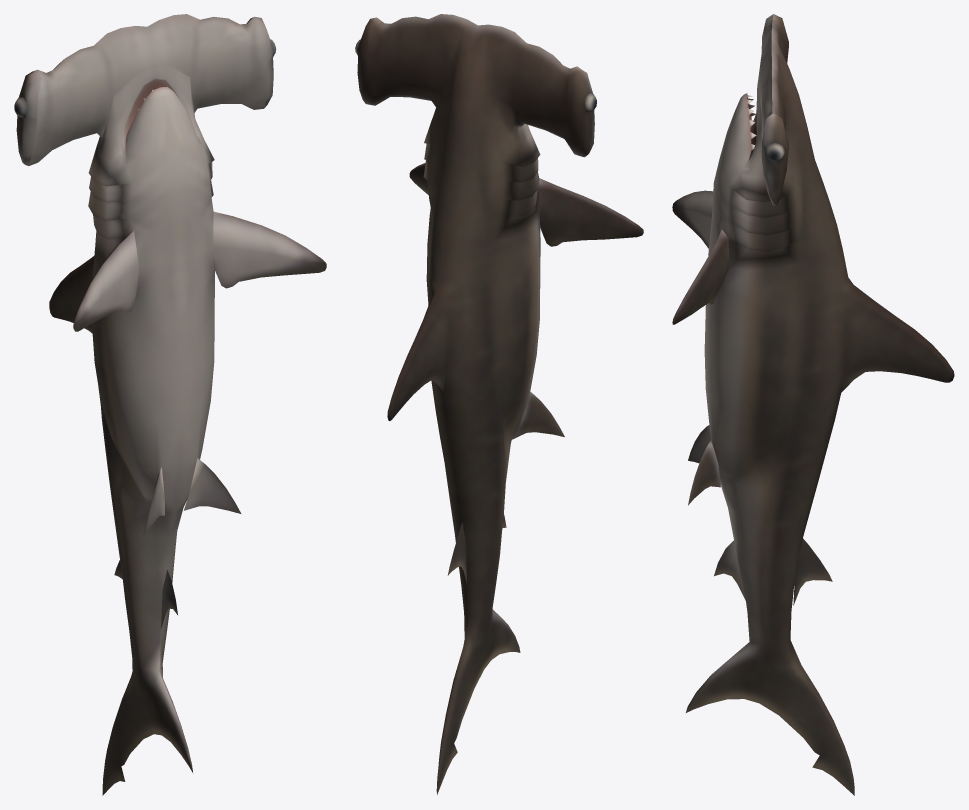
The model's file is hammerhead-shark.glb.
3 renders of one model, left to right at view 1: azimuth 30°, elevation 25°; view 2: azimuth 150°, elevation 25°; view 3: azimuth 270°, elevation 25°, orthographic. The views are drawn at different scales.
Parts seen in each view (by area): view 1: FishShumokuzame__mShumokuzame; view 2: FishShumokuzame__mShumokuzame; view 3: FishShumokuzame__mShumokuzame.
Boxes of the visible parts, x1,y1,x2,y2 form: FishShumokuzame__mShumokuzame: [14, 14, 326, 795]; FishShumokuzame__mShumokuzame: [355, 14, 643, 794]; FishShumokuzame__mShumokuzame: [672, 14, 954, 795].
Size of the model in its own units: 0.9139 by 2.72 by 0.9222.
1 material, 1 textured.
